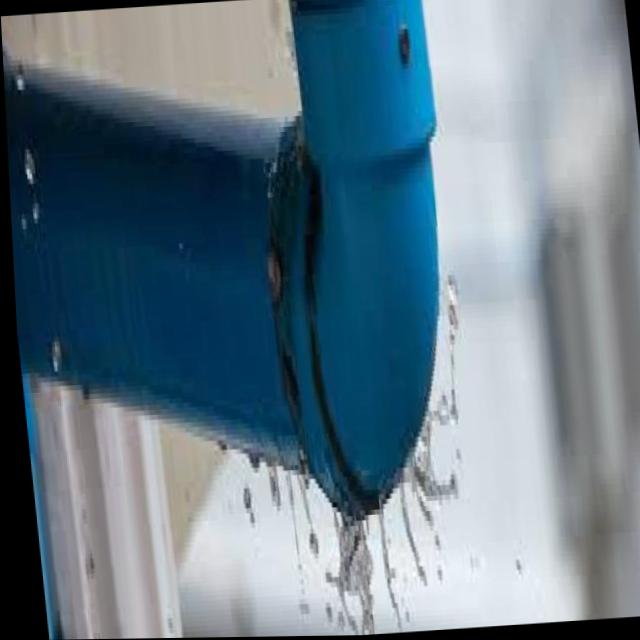leak: (405, 363, 457, 508), (331, 506, 373, 633), (263, 451, 313, 480), (398, 476, 410, 533), (381, 526, 390, 585), (447, 277, 454, 313)
